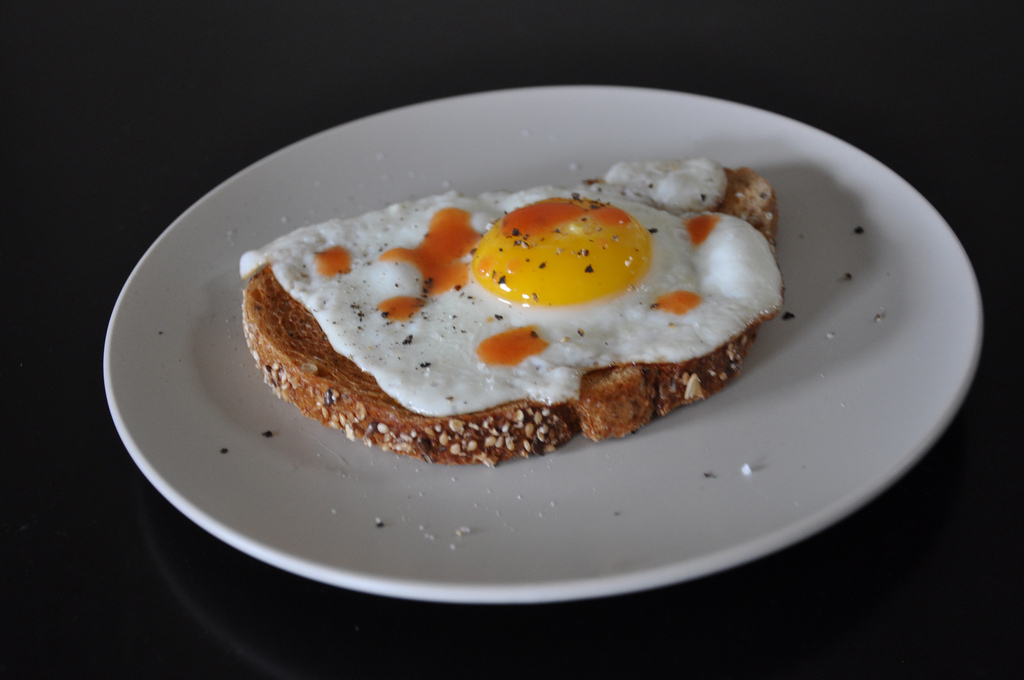fried egg: (243, 168, 800, 397)
slice of bread: (210, 158, 814, 464)
